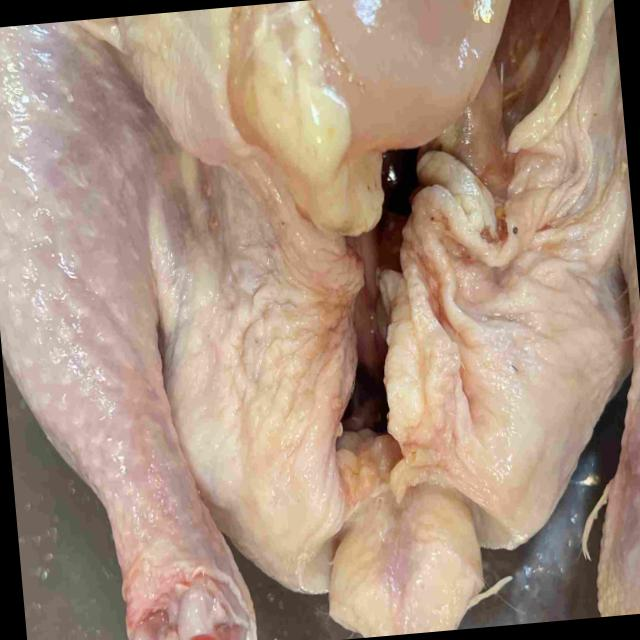breast: (109, 0, 509, 160)
leg: (0, 16, 258, 640), (598, 24, 640, 616)
